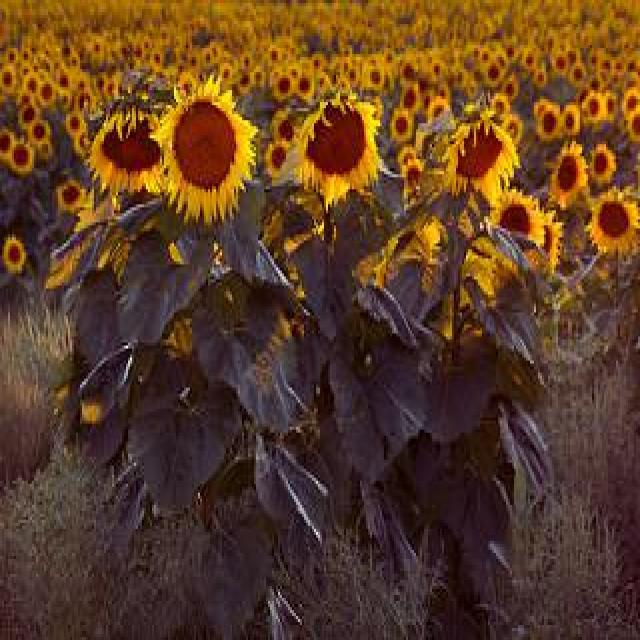sunflower: (151, 74, 259, 220), (301, 92, 381, 212), (450, 110, 520, 208), (94, 100, 160, 190), (586, 186, 640, 252), (487, 185, 543, 241), (550, 138, 586, 208), (531, 210, 564, 262), (587, 143, 615, 182), (7, 135, 33, 174), (536, 104, 562, 142), (2, 233, 26, 272), (391, 104, 413, 142), (57, 179, 82, 211), (271, 112, 293, 144), (266, 139, 286, 173), (400, 81, 420, 115), (403, 160, 423, 190), (559, 104, 580, 132), (584, 91, 604, 120), (28, 118, 50, 143), (483, 60, 501, 87), (623, 91, 640, 119), (65, 110, 84, 135), (366, 62, 384, 88), (551, 51, 570, 75), (0, 66, 16, 94), (427, 99, 447, 121), (275, 74, 291, 101), (399, 145, 416, 170), (520, 48, 537, 71), (0, 129, 13, 159), (39, 79, 55, 103), (627, 110, 640, 138), (24, 72, 39, 96), (296, 70, 311, 94), (502, 77, 518, 99), (19, 106, 37, 125), (401, 60, 417, 80), (534, 66, 546, 88)
